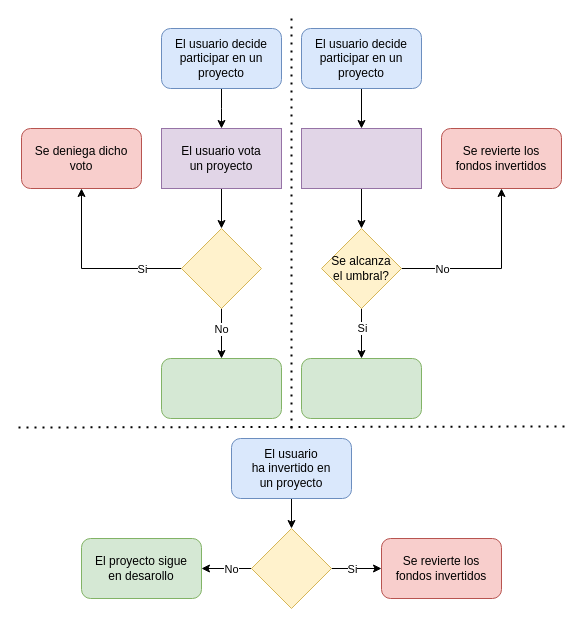
Image size: 586x626. Some labels were removed from this diagram. The centre of each missing label's shape, as x and y in pixels:
"El proyecto avanza a la siguiente fase" belongs at point (361, 388).
"El proyecto se ha detenido?" belongs at point (291, 568).
"El usuario invierte en un proyecto" belongs at point (361, 158).
"Se guarda el voto" belongs at point (221, 388).
"Se ha votado previamente?" belongs at point (221, 268).
